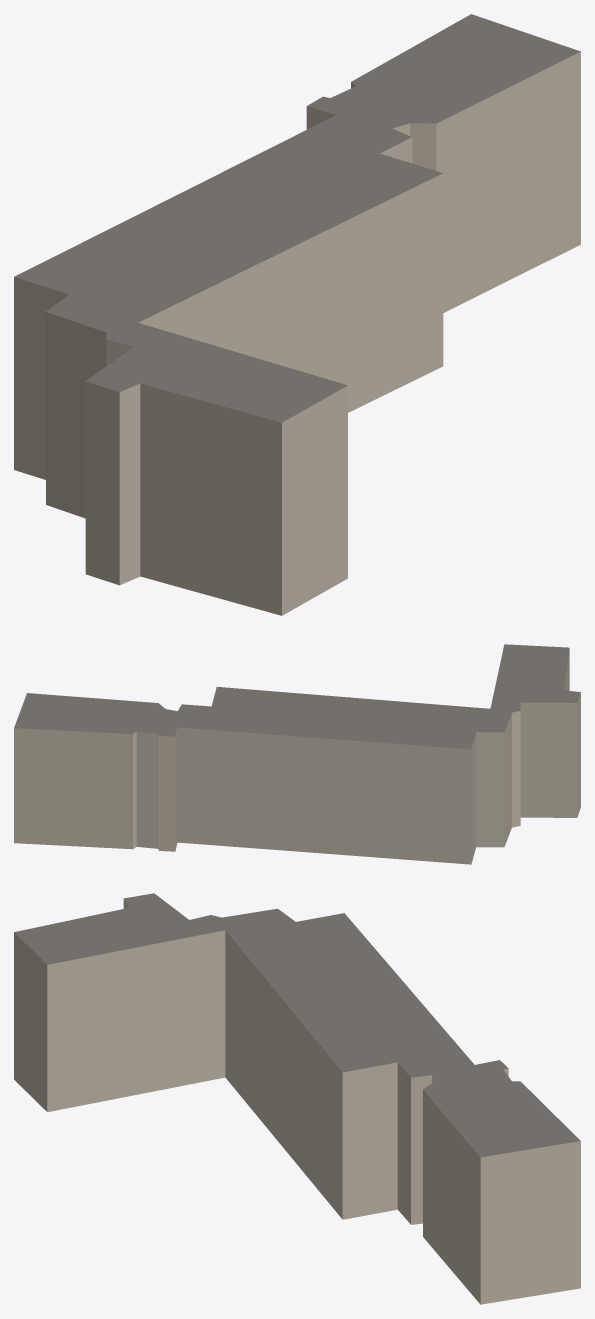
3 views of the same model, one above another, from view 1: azimuth 30°, elevation 25°; view 2: azimuth 150°, elevation 25°; view 3: azimuth 270°, elevation 25° (orthographic). The views are drawn at different scales.
Parts seen in each view (by area): view 1: HP-w1516161920; view 2: HP-w1516161920; view 3: HP-w1516161920.
Part boxes in pixels (<box>): HP-w1516161920: <box>14,14,580,615</box>; HP-w1516161920: <box>14,644,580,864</box>; HP-w1516161920: <box>14,893,580,1304</box>.
Bounding box in the file's own units: 69.2 × 18 × 62.78.
